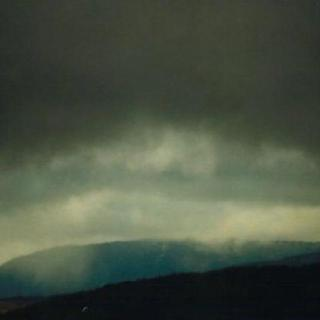Stratocumulus: (0, 0, 320, 252)
